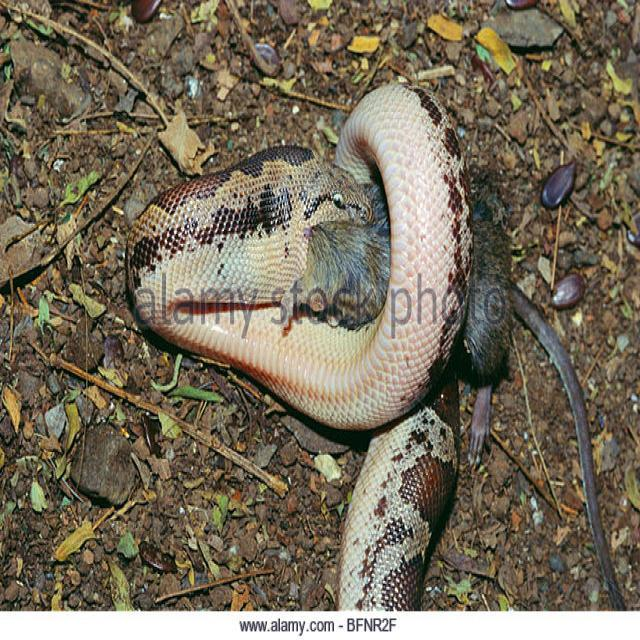Snake: (123, 79, 624, 610)
